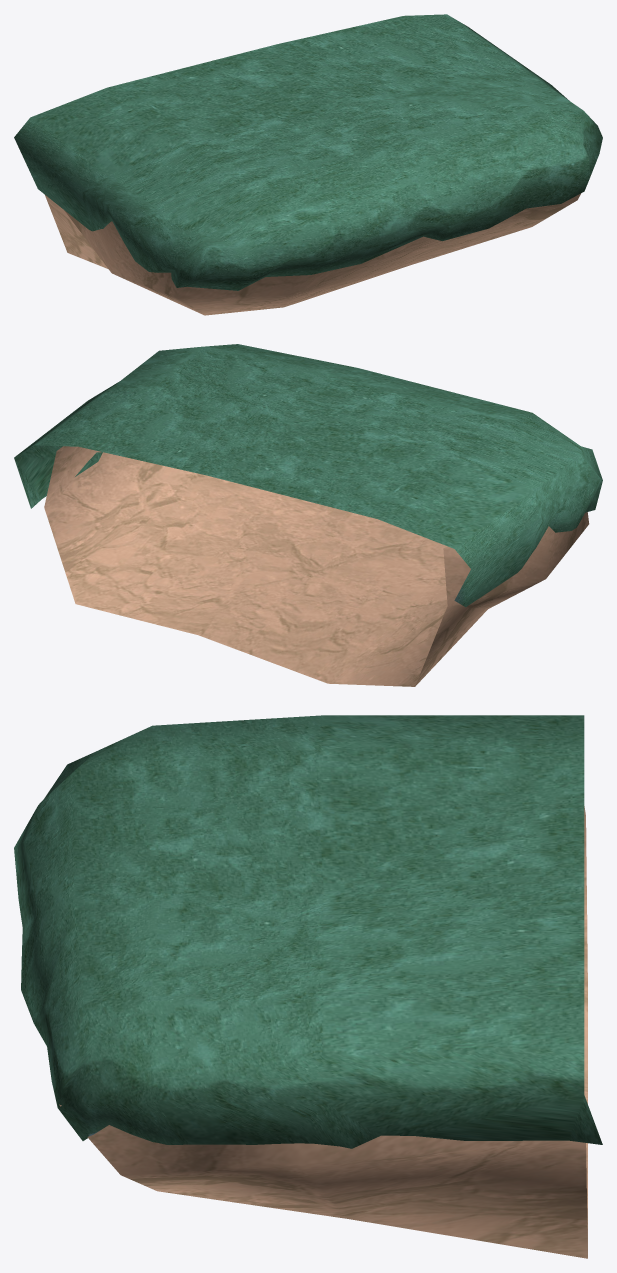
File: PedraNormal.fbx
3 views of the same model, one above another, from view 1: azimuth 30°, elevation 25°; view 2: azimuth 150°, elevation 25°; view 3: azimuth 270°, elevation 25° (orthographic). The views are drawn at different scales.
Parts seen in each view (by area): view 1: Box001_001; view 2: Box001_001; view 3: Box001_001.
Part boxes in pixels (bbox=[...]): Box001_001: bbox=[14, 14, 602, 315]; Box001_001: bbox=[14, 344, 602, 686]; Box001_001: bbox=[14, 715, 602, 1258].
Bounding box in the file's own units: 28.86 × 10.66 × 19.34.
